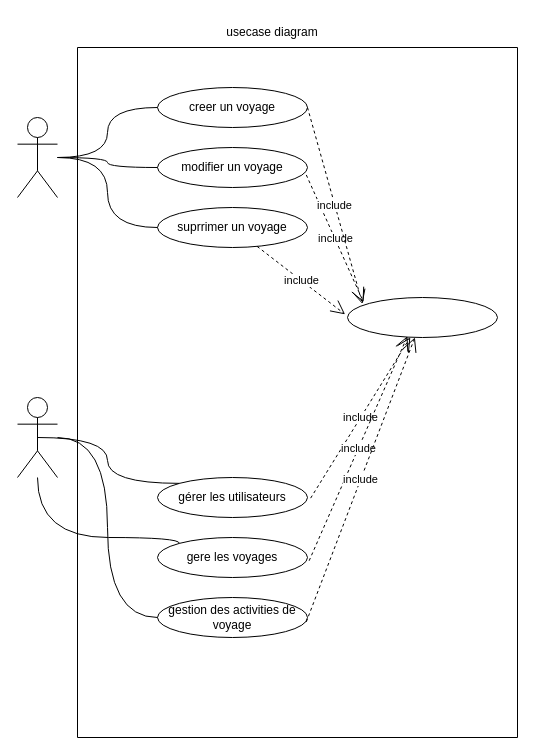
Image size: 535x755. Some labels were removed from this diagram. Here are the shapes that lost their labels. From the top down, the box of each, then its label:
(16, 116, 58, 198): Client
(346, 296, 498, 338): auth
(16, 396, 58, 478): Admin
